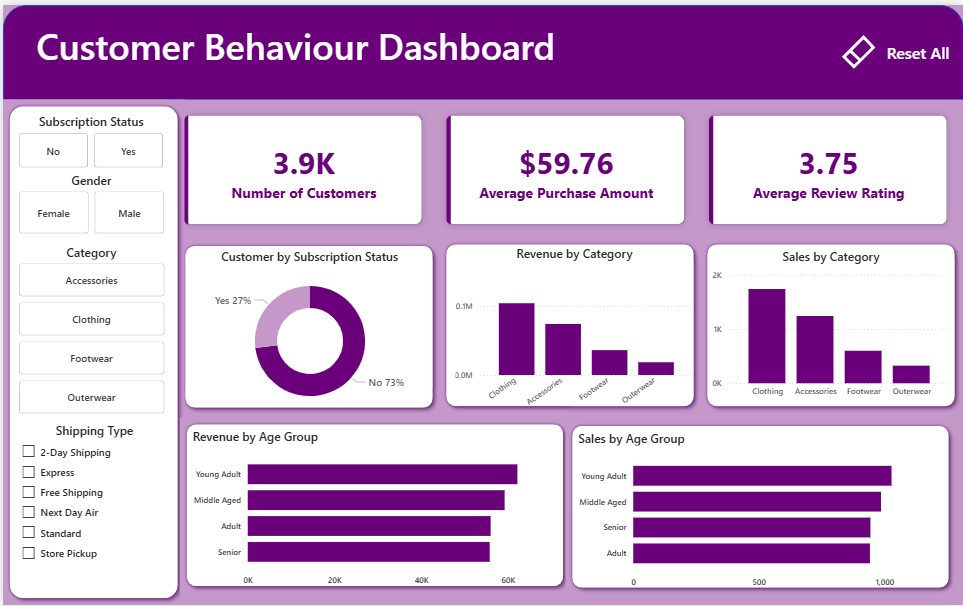

This screenshot's page, from the dashboard's own definition file:
{"tool":"powerbi","page":{"name":"Page 1","canvas":[1280,800],"ordinal":0},"visuals":[{"type":"cardVisual","fields":{"Data":["customer_behavior mytable.Number of Customers","customer_behavior mytable.Average Purchase Amount","customer_behavior mytable.Average Review Rating"]},"box":[220,126.7,1060,188.3],"z":0},{"type":"shape","box":[0,0,1280.8,126.3],"z":1000},{"type":"textbox","box":[0,16.2,1280.8,92.3],"z":2000},{"type":"shape","box":[234,312,348,234],"z":3000},{"type":"shape","box":[582,310,348,234],"z":4000},{"type":"shape","box":[930,310,348,234],"z":5000},{"type":"donutChart","title":"Customer by Subscription Status","fields":{"Category":["customer_behavior mytable.subscription_status"],"Y":["CountNonNull(customer_behavior mytable.customer_id)"]},"box":[242,324,334,226],"z":6000},{"type":"clusteredColumnChart","title":"Revenue by Category","fields":{"Y":["Sum(customer_behavior mytable.purchase_amount)"],"Category":["customer_behavior mytable.category"]},"box":[598,320,328,224],"z":7000},{"type":"clusteredColumnChart","title":"Sales by Category","fields":{"Category":["customer_behavior mytable.category"],"Y":["CountNonNull(customer_behavior mytable.customer_id)"]},"box":[940,324,328,208],"z":8000},{"type":"shape","box":[0,126,242,674],"z":9000},{"type":"advancedSlicerVisual","fields":{"Values":["customer_behavior mytable.subscription_status"]},"box":[16.7,143.3,203.3,78.3],"z":10000},{"type":"advancedSlicerVisual","fields":{"Values":["customer_behavior mytable.gender"]},"box":[16,222,204,88],"z":11000},{"type":"advancedSlicerVisual","fields":{"Values":["customer_behavior mytable.category"]},"box":[16,318,204,232],"z":12000},{"type":"listSlicer","title":"Shipping Type","fields":{"Values":["customer_behavior mytable.shipping_type"]},"box":[20,550,204,250],"z":13000},{"type":"shape","box":[236,550,520,234],"z":14000},{"type":"shape","box":[750,552,520,234],"z":15000},{"type":"clusteredBarChart","title":"Revenue by Age Group","fields":{"Y":["Sum(customer_behavior mytable.purchase_amount)"],"Category":["customer_behavior mytable.age_group"]},"box":[248,564,498,220],"z":16000},{"type":"clusteredBarChart","title":"Sales by Age Group","fields":{"Category":["customer_behavior mytable.age_group"],"Y":["CountNonNull(customer_behavior mytable.customer_id)"]},"box":[762,566,498,220],"z":17000},{"type":"actionButton","box":[1106,28,164,70],"z":18000}]}

Visuals, with their boxes in screenshot pixels (x1, y1, x2, y2), scaled from the page's 1280x800 canvas onto the 963x606 screenshot:
cardVisual - customer_behavior mytable.Number of Customers x customer_behavior mytable.Average Purchase Amount: {"left": 166, "top": 96, "right": 962, "bottom": 239}
shape: {"left": 0, "top": 0, "right": 962, "bottom": 96}
textbox: {"left": 0, "top": 12, "right": 962, "bottom": 82}
shape: {"left": 176, "top": 236, "right": 438, "bottom": 414}
shape: {"left": 438, "top": 235, "right": 700, "bottom": 412}
shape: {"left": 700, "top": 235, "right": 961, "bottom": 412}
"Customer by Subscription Status" donutChart: {"left": 182, "top": 245, "right": 433, "bottom": 417}
"Revenue by Category" clusteredColumnChart: {"left": 450, "top": 242, "right": 697, "bottom": 412}
"Sales by Category" clusteredColumnChart: {"left": 707, "top": 245, "right": 954, "bottom": 403}
shape: {"left": 0, "top": 95, "right": 182, "bottom": 605}
advancedSlicerVisual - customer_behavior mytable.subscription_status: {"left": 13, "top": 109, "right": 166, "bottom": 168}
advancedSlicerVisual - customer_behavior mytable.gender: {"left": 12, "top": 168, "right": 166, "bottom": 235}
advancedSlicerVisual - customer_behavior mytable.category: {"left": 12, "top": 241, "right": 166, "bottom": 417}
"Shipping Type" listSlicer: {"left": 15, "top": 417, "right": 169, "bottom": 605}
shape: {"left": 178, "top": 417, "right": 569, "bottom": 594}
shape: {"left": 564, "top": 418, "right": 955, "bottom": 595}
"Revenue by Age Group" clusteredBarChart: {"left": 187, "top": 427, "right": 561, "bottom": 594}
"Sales by Age Group" clusteredBarChart: {"left": 573, "top": 429, "right": 948, "bottom": 595}
actionButton: {"left": 832, "top": 21, "right": 955, "bottom": 74}
